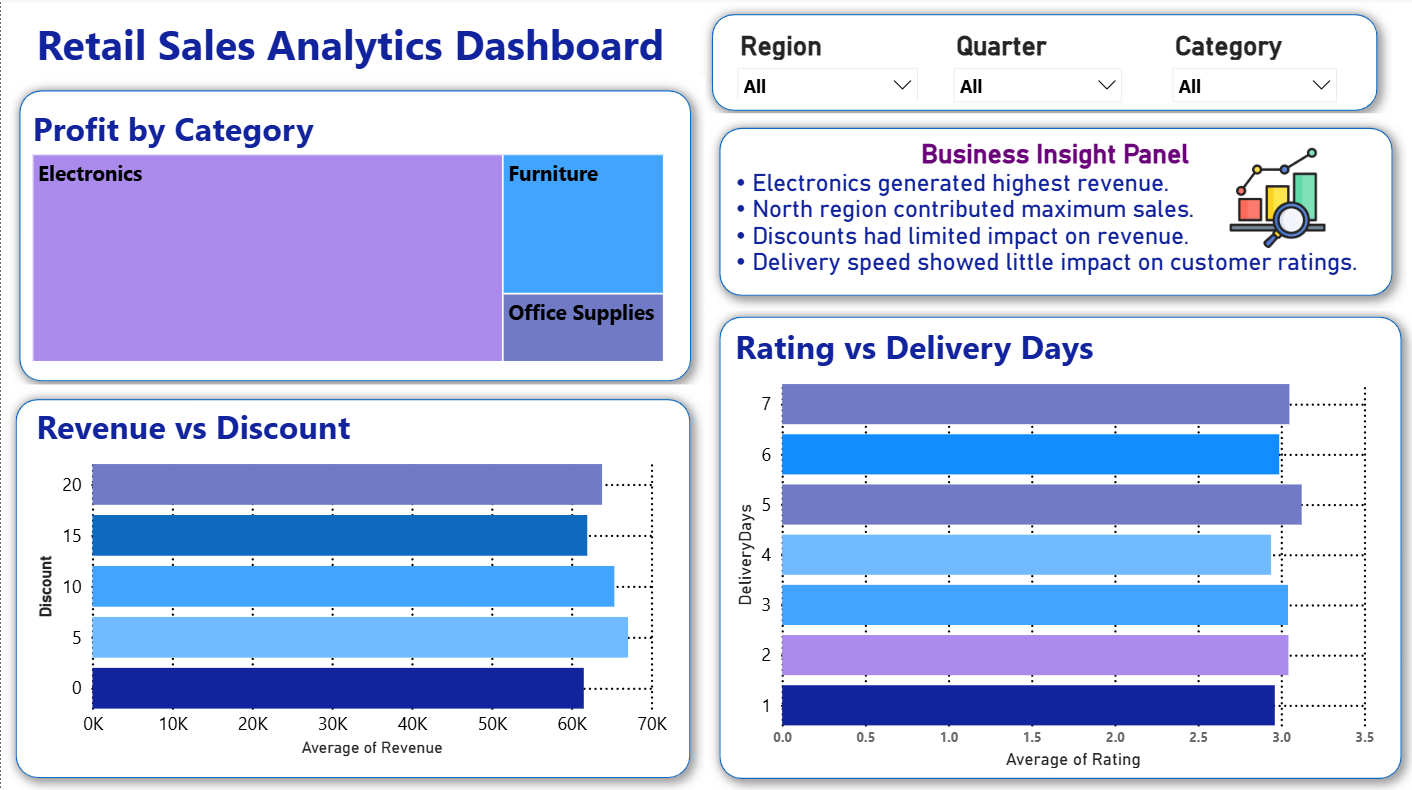

What the dashboard file says about the page in this screenshot:
{"tool":"powerbi","page":{"name":"Business Insights","canvas":[1280,720],"ordinal":3},"visuals":[{"type":"group","id":"g1","title":"Group 1","box":[629.8,2.7,628.5,113.9],"z":0,"group":"g6"},{"type":"shape","box":[629.8,2.7,628.5,113.9],"z":0,"group":"g1"},{"type":"textbox","box":[27.4,12.3,592.8,70],"z":0},{"type":"group","id":"g2","title":"Group 1","box":[3.4,71.7,634,289.5],"z":0,"group":"g7"},{"type":"shape","box":[3.4,71.7,634,289.5],"z":0,"group":"g2"},{"type":"group","id":"g3","title":"Group 1","box":[636.7,105.7,635.3,178.4],"z":0,"group":"g10"},{"type":"shape","box":[636.7,105.7,635.3,178.4],"z":0,"group":"g3"},{"type":"group","id":"g4","title":"Group 1","box":[636.7,275.8,643.6,444.6],"z":0,"group":"g9"},{"type":"shape","box":[636.7,275.8,643.6,444.6],"z":0,"group":"g4"},{"type":"group","id":"g5","title":"Group 1","box":[0,350.6,636.7,369.1],"z":0,"group":"g8"},{"type":"shape","box":[0,350.6,636.7,369.1],"z":0,"group":"g5"},{"type":"group","id":"g6","title":"Group 2","box":[629.8,2.7,628.5,113.9],"z":1000},{"type":"slicer","fields":{"Values":["Orders_Big.OrderDate.Variation.Date Hierarchy.Quarter"]},"box":[851.3,25.5,172.7,72.1],"z":1000,"group":"g6"},{"type":"treemap","title":"Profit by Category","fields":{"Values":["Sum(Orders_Big.Profit)"],"Group":["Products_Big.Category"]},"box":[23.8,99.3,580.9,236.8],"z":1000,"group":"g7"},{"type":"barChart","title":"Rating vs Delivery Days","fields":{"Category":["Orders_Big.DeliveryDays"],"Y":["Avg(Orders_Big.Rating)"]},"box":[659,294.6,588.3,407.5],"z":1000,"group":"g9"},{"type":"barChart","title":"Revenue vs Discount","fields":{"Category":["Orders_Big.Discount"],"Y":["Avg(Orders_Big.Revenue)"]},"box":[27.4,367.6,580.4,325.2],"z":1000,"group":"g8"},{"type":"slicer","fields":{"Values":["Products_Big.Category"]},"box":[1049.2,25.5,168.9,73.4],"z":2000,"group":"g6"},{"type":"group","id":"g7","title":"Group 2","box":[3.4,71.7,634,289.5],"z":2000},{"type":"slicer","fields":{"Values":["Orders_Big.Region"]},"box":[656,25.5,183.4,68.3],"z":3000,"group":"g6"},{"type":"group","id":"g8","title":"Group 2","box":[0,350.6,636.7,369.1],"z":3000},{"type":"group","id":"g9","title":"Group 2","box":[636.7,275.8,643.6,444.6],"z":4000},{"type":"group","id":"g10","title":"Group 2","box":[636.7,105.7,635.3,178.4],"z":5000},{"type":"textbox","box":[658.7,123.5,588.7,137.2],"z":6000},{"type":"image","box":[1090.9,135.8,127.6,91.9],"z":7000}]}

Visuals, with their boxes in screenshot pixels (x1, y1, x2, y2), scaled from the page's 1280x720 canvas onto the 1412x790 screenshot:
"Group 1" group: BBox(695, 3, 1388, 128)
shape: BBox(695, 3, 1388, 128)
textbox: BBox(30, 13, 684, 90)
"Group 1" group: BBox(4, 79, 703, 396)
shape: BBox(4, 79, 703, 396)
"Group 1" group: BBox(702, 116, 1403, 312)
shape: BBox(702, 116, 1403, 312)
"Group 1" group: BBox(702, 303, 1411, 789)
shape: BBox(702, 303, 1411, 789)
"Group 1" group: BBox(0, 385, 702, 789)
shape: BBox(0, 385, 702, 789)
"Group 2" group: BBox(695, 3, 1388, 128)
slicer - Orders_Big.OrderDate.Variation.Date Hierarchy.Quarter: BBox(939, 28, 1130, 107)
"Profit by Category" treemap: BBox(26, 109, 667, 369)
"Rating vs Delivery Days" barChart: BBox(727, 323, 1376, 770)
"Revenue vs Discount" barChart: BBox(30, 403, 670, 760)
slicer - Products_Big.Category: BBox(1157, 28, 1344, 109)
"Group 2" group: BBox(4, 79, 703, 396)
slicer - Orders_Big.Region: BBox(724, 28, 926, 103)
"Group 2" group: BBox(0, 385, 702, 789)
"Group 2" group: BBox(702, 303, 1411, 789)
"Group 2" group: BBox(702, 116, 1403, 312)
textbox: BBox(727, 136, 1376, 286)
image: BBox(1203, 149, 1344, 250)
